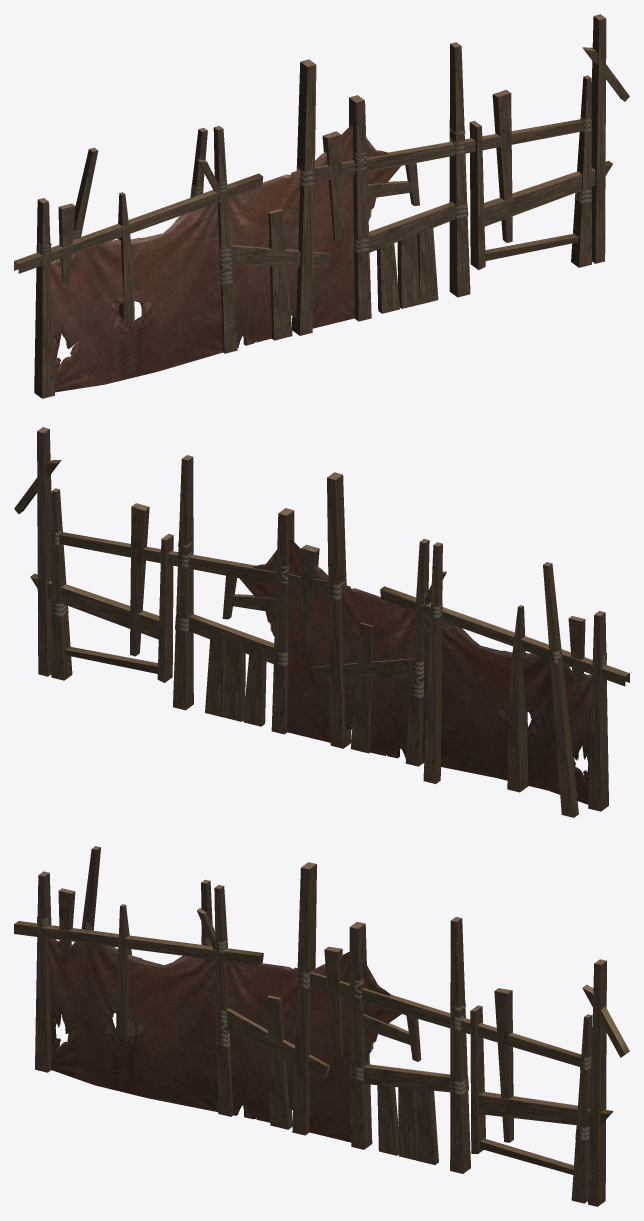
Rendered from fld_mujia03_jgc.FBX.
3 renders of one model, top to bottom at view 1: azimuth 30°, elevation 25°; view 2: azimuth 150°, elevation 25°; view 3: azimuth 330°, elevation 25°, orthographic.
Parts seen in each view (by area): view 1: fld_mujia03_jgc; view 2: fld_mujia03_jgc; view 3: fld_mujia03_jgc.
Part boxes in pixels (x1,y1,x2,y2): fld_mujia03_jgc: (14,14,629,398); fld_mujia03_jgc: (14,427,629,817); fld_mujia03_jgc: (14,846,629,1206).
Size of the model in its own units: 60.93 by 25.41 by 3.89.
